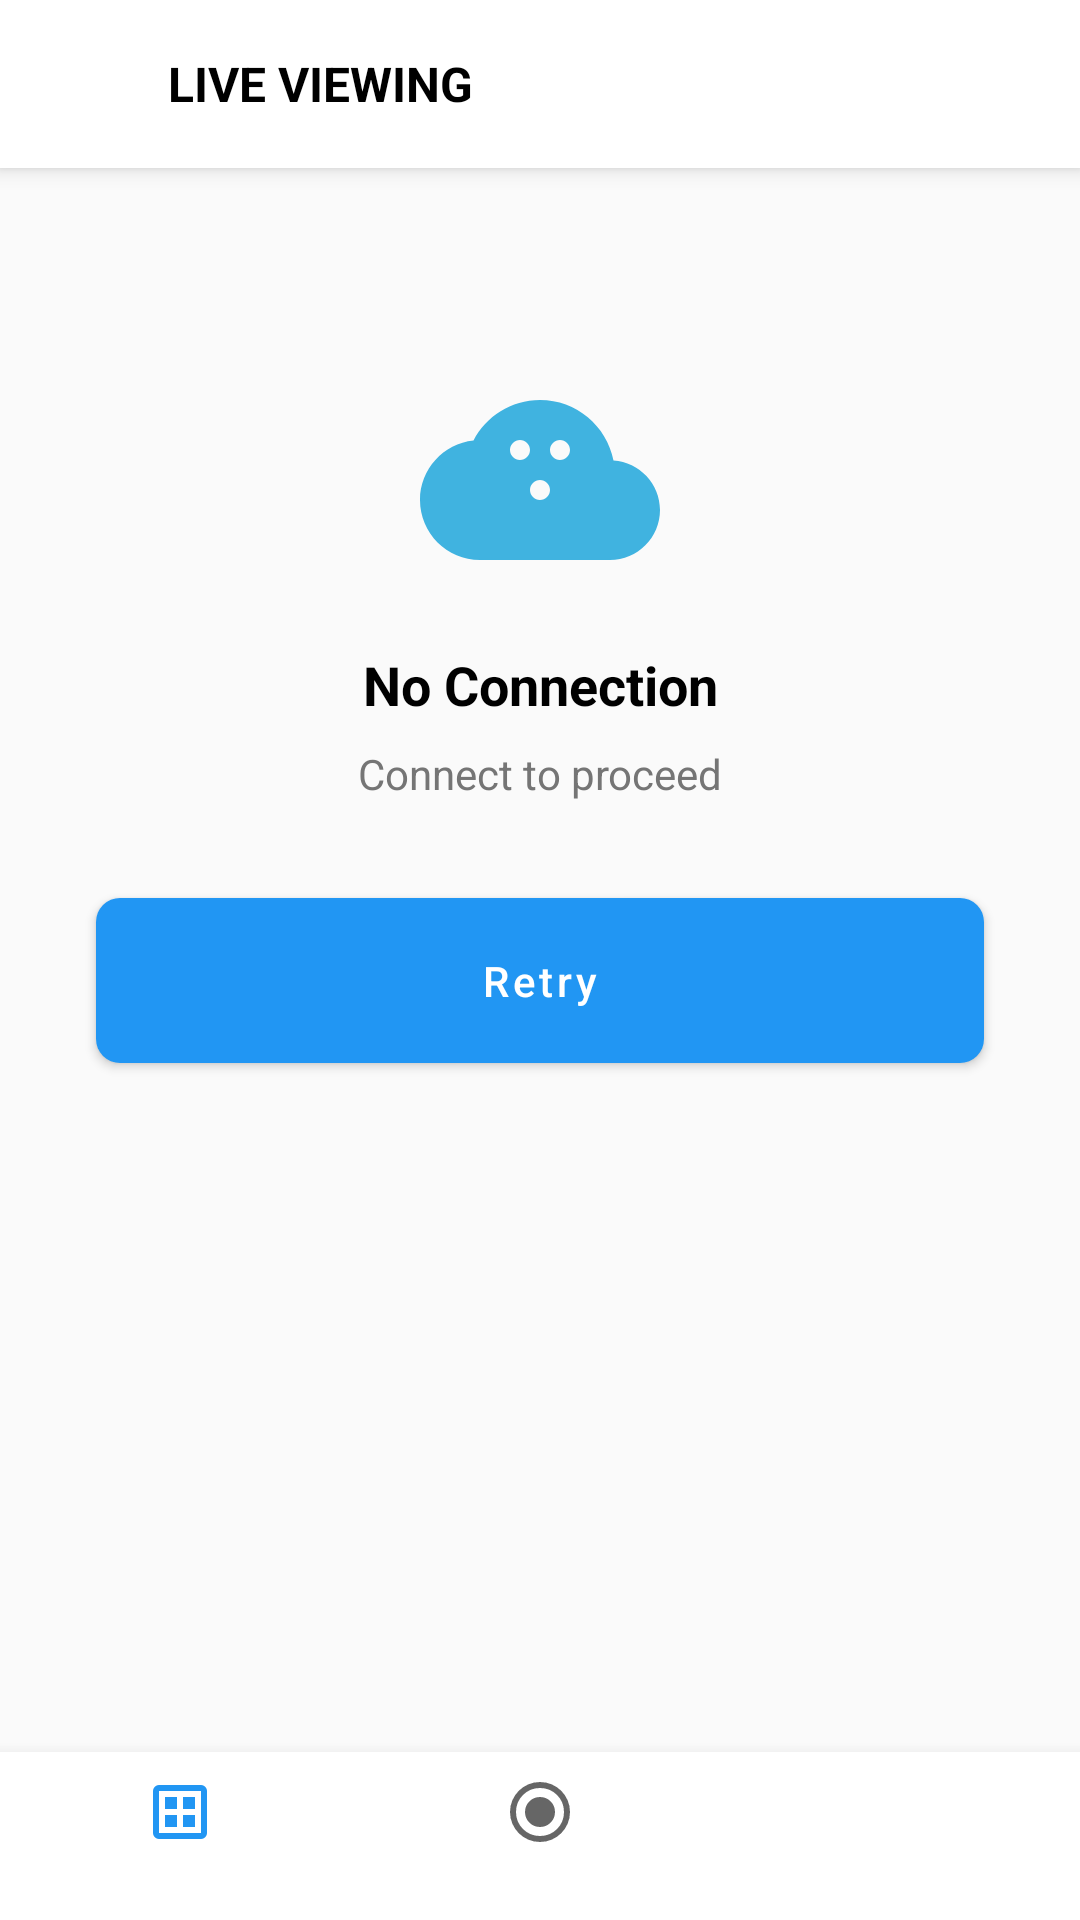

Named icons in this screenshot (1080×1920) and their bounding boxes, bbox=[x1, y1, x2, y2]:
sad cloud: bbox=[420, 400, 660, 560]
